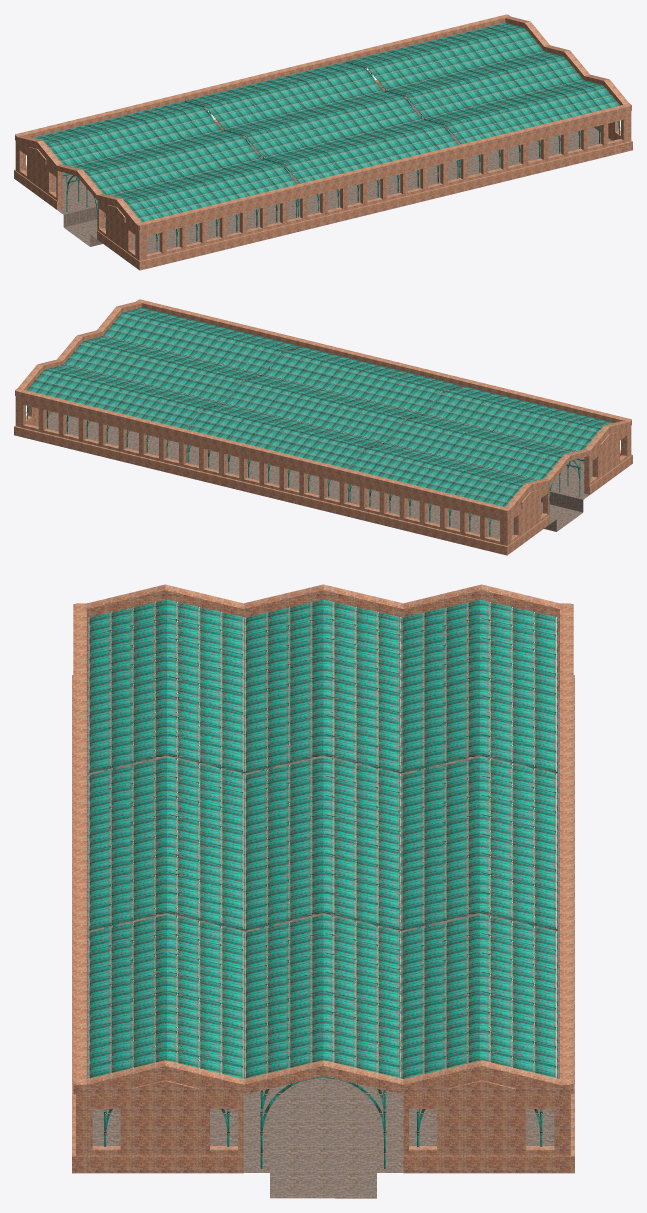
Rendered from TRAINSTATION1.fbx.
3 renders of one model, top to bottom at view 1: azimuth 30°, elevation 25°; view 2: azimuth 150°, elevation 25°; view 3: azimuth 270°, elevation 25°, orthographic. The views are drawn at different scales.
Parts seen in each view (by area): view 1: BezierCircle.002, Plane; view 2: BezierCircle.002, Plane; view 3: BezierCircle.002, Plane.
Boxes of the visible parts, <box> form: BezierCircle.002: <box>33,22,620,251</box>; Plane: <box>14,14,632,270</box>; BezierCircle.002: <box>26,307,613,536</box>; Plane: <box>14,299,632,555</box>; BezierCircle.002: <box>88,599,557,1168</box>; Plane: <box>72,584,574,1198</box>.
Bounding box in the file's own units: 10313 × 1326 × 4551.
